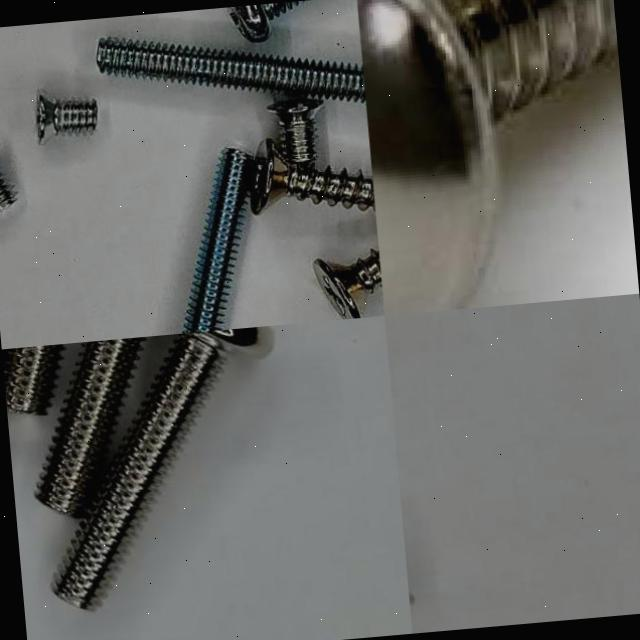Screw: (357, 0, 618, 315), (54, 326, 272, 609), (35, 336, 143, 515), (96, 37, 366, 103), (182, 148, 257, 333), (250, 138, 375, 214), (313, 248, 382, 319), (3, 344, 62, 413), (267, 97, 323, 168), (35, 91, 97, 144), (0, 172, 16, 212)
